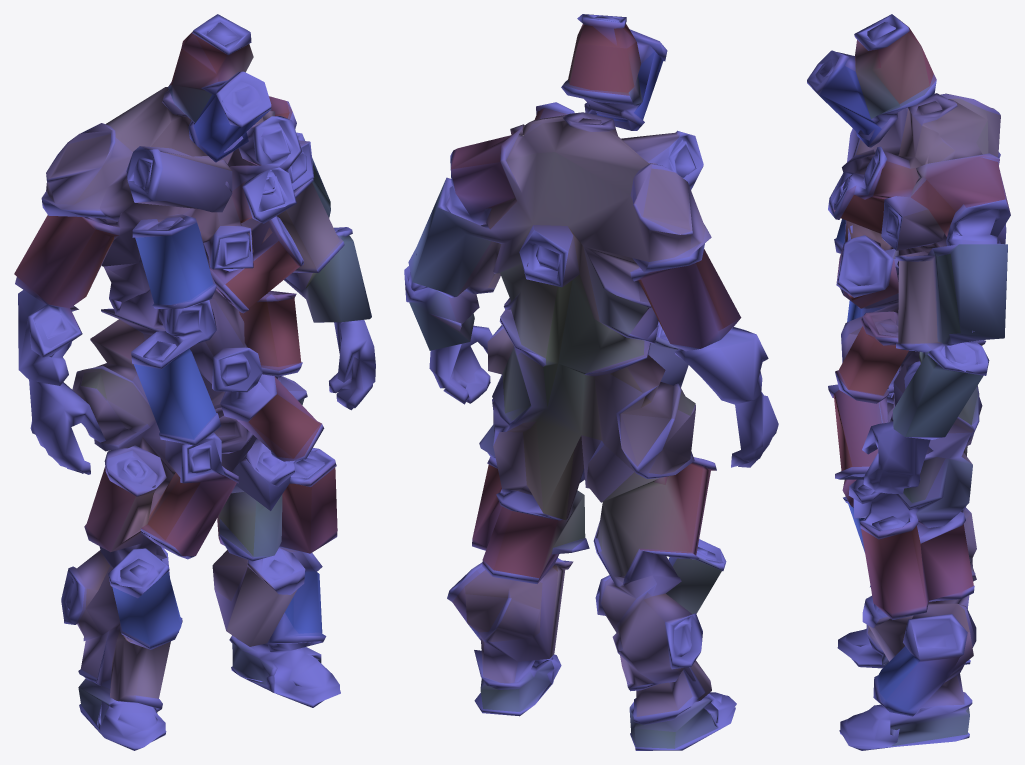
The model's file is model.progressive.glb.
3 renders of one model, left to right at view 1: azimuth 30°, elevation 25°; view 2: azimuth 150°, elevation 25°; view 3: azimuth 270°, elevation 25°, orthographic.
Visible parts, largest first — view 1: CanMan2; view 2: CanMan2; view 3: CanMan2.
Boxes of the visible parts, x1,y1,x2,y2 form: CanMan2: (14, 14, 375, 750); CanMan2: (404, 14, 778, 750); CanMan2: (807, 14, 1010, 750).
Size of the model in its own units: 0.9784 by 1.89 by 0.5155.
1 material, 1 textured.
